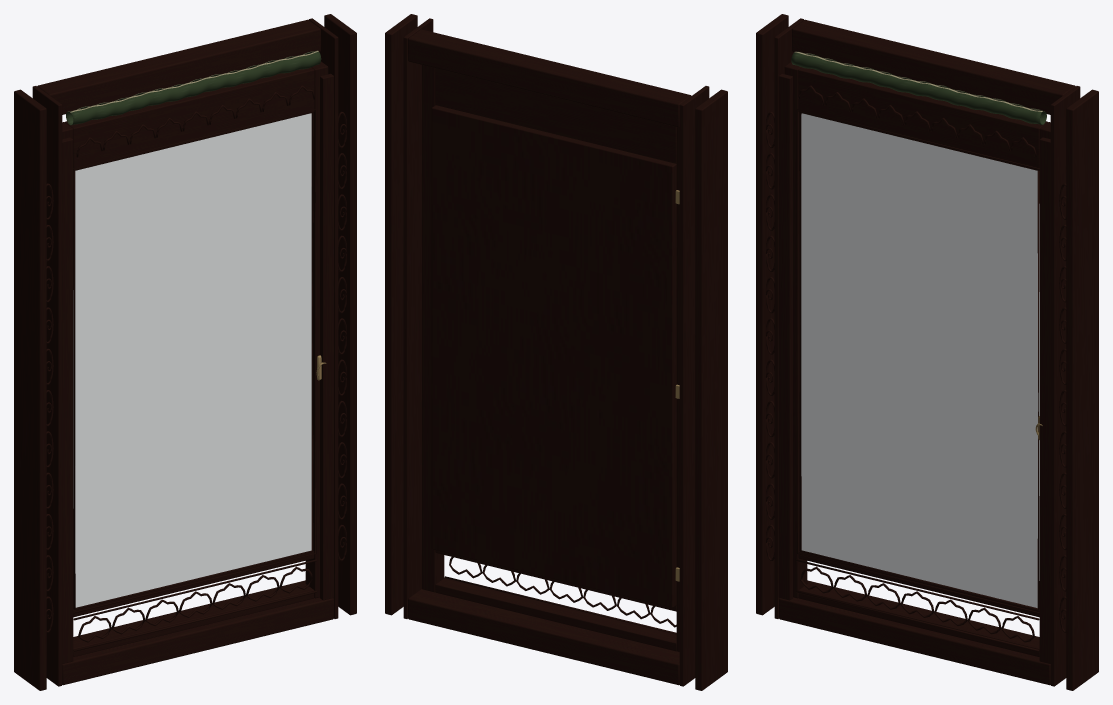
The model's file is gpt-chuanyijing-v1.glb.
3 renders of one model, left to right at view 1: azimuth 30°, elevation 25°; view 2: azimuth 150°, elevation 25°; view 3: azimuth 330°, elevation 25°, orthographic.
Parts seen in each view (by area): view 1: 06_独立镜面, 06_固定雕空整框, 06_可动镜板木框, 06_镜套_收卷与罩镜; view 2: 06_镜板背板, 06_固定雕空整框, 06_可动镜板木框; view 3: 06_独立镜面, 06_固定雕空整框, 06_可动镜板木框, 06_镜套_收卷与罩镜.
Part boxes in pixels (x1,y1,x2,y2): 06_独立镜面: (73,113,311,607); 06_固定雕空整框: (14,14,356,690); 06_可动镜板木框: (62,61,328,656); 06_镜套_收卷与罩镜: (66,50,321,125); 06_镜板背板: (431,105,676,607); 06_固定雕空整框: (385,14,727,690); 06_可动镜板木框: (422,65,679,651); 06_独立镜面: (801,113,1039,607); 06_固定雕空整框: (756,14,1098,690); 06_可动镜板木框: (784,62,1050,656); 06_镜套_收卷与罩镜: (791,51,1046,124).
Bounding box in the file's own units: 1.4 × 2.45 × 0.1999.
5 materials, 2 textured.
